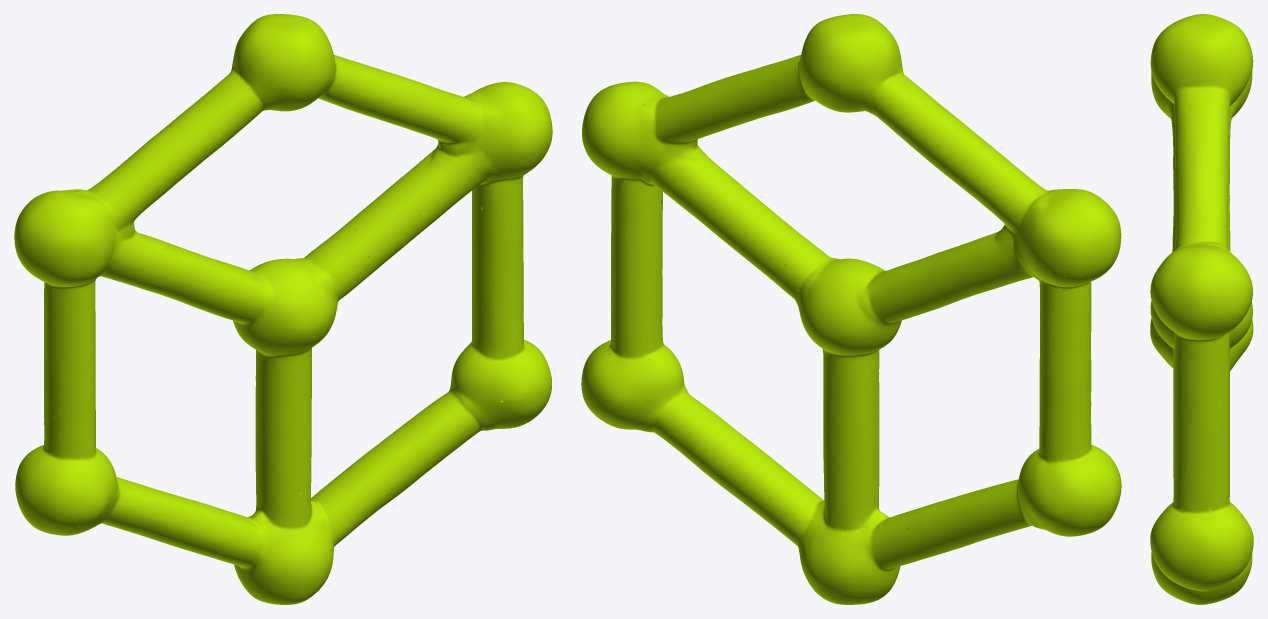
File: final imageasmodel.glb
3 renders of one model, left to right at view 1: azimuth 30°, elevation 25°; view 2: azimuth 150°, elevation 25°; view 3: azimuth 270°, elevation 25°, orthographic.
Parts seen in each view (by area): view 1: Mesh_0; view 2: Mesh_0; view 3: Mesh_0.
Part boxes in pixels (x1=…): Mesh_0: x1=14, y1=14, x2=552, y2=604; Mesh_0: x1=581, y1=14, x2=1121, y2=604; Mesh_0: x1=1150, y1=14, x2=1253, y2=604.
Size of the model in its own units: 1.92 by 2.01 by 0.3282.
